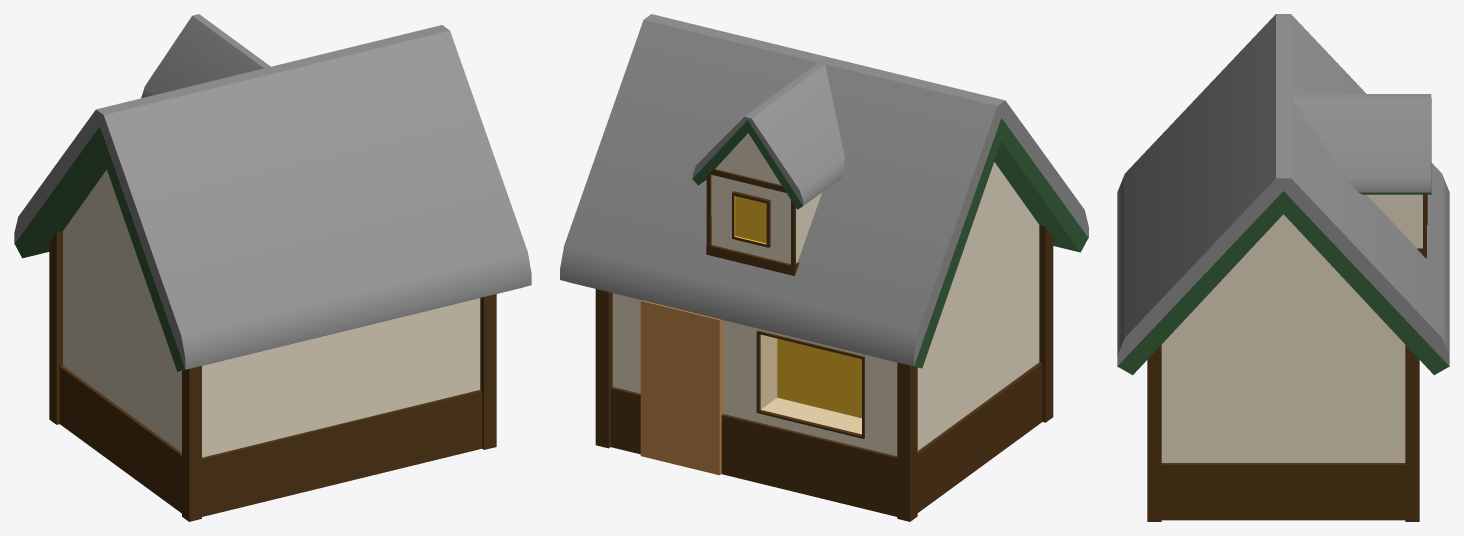
The model's file is hosue_5.fbx.
3 renders of one model, left to right at view 1: azimuth 30°, elevation 25°; view 2: azimuth 150°, elevation 25°; view 3: azimuth 270°, elevation 25°, orthographic. The views are drawn at different scales.
Visible parts, largest first — view 1: Object060, Object033; view 2: Object060, Object033, Object055; view 3: Object033, Object060.
Part boxes in pixels (box(x1,y1,x2,y2)): Object060: box(14, 14, 531, 369); Object033: box(15, 126, 521, 521); Object060: box(560, 14, 1088, 366); Object033: box(568, 118, 1088, 521); Object055: box(735, 196, 861, 418); Object033: box(1117, 98, 1449, 521); Object060: box(1117, 14, 1449, 366).
Bounding box in the file's own units: 495 × 496 × 423.
